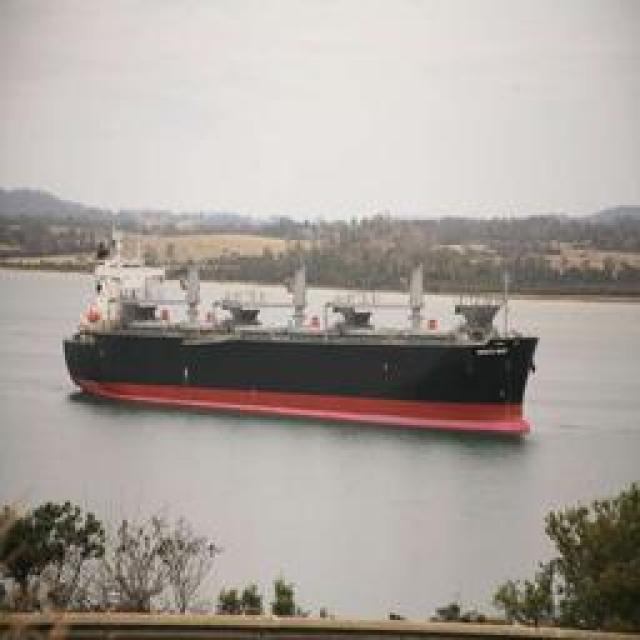CIV_Ship: (69, 266, 536, 434)
